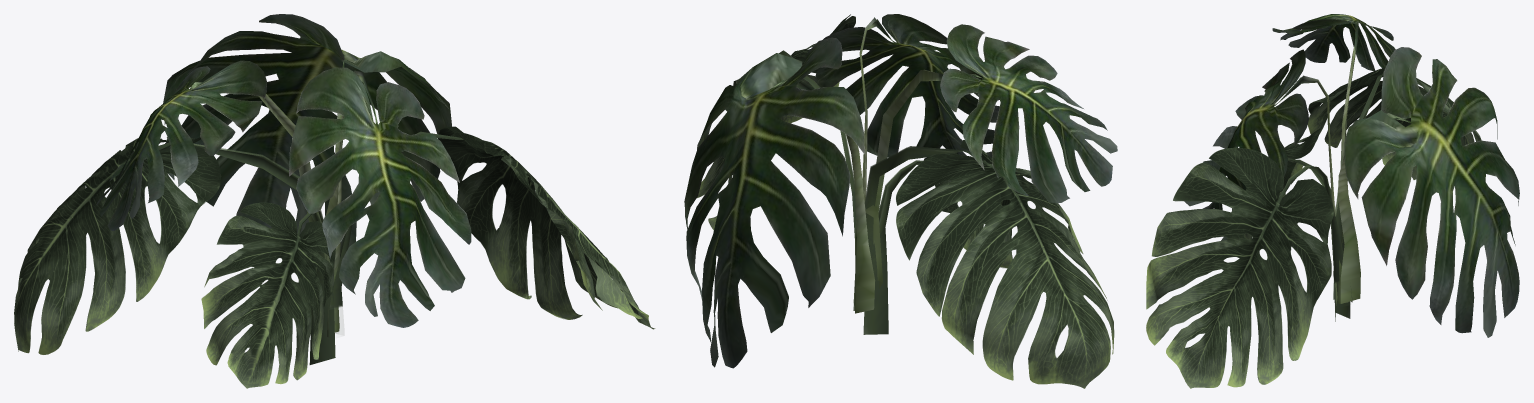
The model's file is planta.glb.
3 renders of one model, left to right at view 1: azimuth 30°, elevation 25°; view 2: azimuth 150°, elevation 25°; view 3: azimuth 270°, elevation 25°, orthographic. The views are drawn at different scales.
Parts seen in each view (by area): view 1: leaf.002, leaf, leaf.001, leaf.004, leaf.003, leaf.005; view 2: leaf.004, leaf, leaf.005, leaf.002, leaf.001, leaf.003; view 3: leaf.003, leaf.004, leaf.002, leaf.005, leaf, leaf.001.
Boxes of the visible parts, left/top/right/bottom form: leaf.002: left=289, top=67, right=471, bottom=332; leaf: left=14, top=137, right=329, bottom=354; leaf.001: left=201, top=202, right=335, bottom=388; leaf.004: left=160, top=14, right=451, bottom=328; leaf.003: left=329, top=126, right=655, bottom=333; leaf.005: left=96, top=60, right=331, bottom=305; leaf.004: left=684, top=37, right=875, bottom=368; leaf: left=853, top=140, right=1114, bottom=388; leaf.005: left=865, top=24, right=1117, bottom=288; leaf.002: left=814, top=14, right=999, bottom=201; leaf.001: left=863, top=157, right=1018, bottom=334; leaf.003: left=697, top=14, right=855, bottom=237; leaf.003: left=1146, top=147, right=1349, bottom=388; leaf.004: left=1338, top=47, right=1519, bottom=337; leaf.002: left=1184, top=49, right=1347, bottom=303; leaf.005: left=1272, top=14, right=1395, bottom=305; leaf: left=1307, top=68, right=1481, bottom=302; leaf.001: left=1244, top=128, right=1350, bottom=321.
Size of the model in its own units: 52.83 by 31.58 by 39.62.
2 materials, 2 textured.
